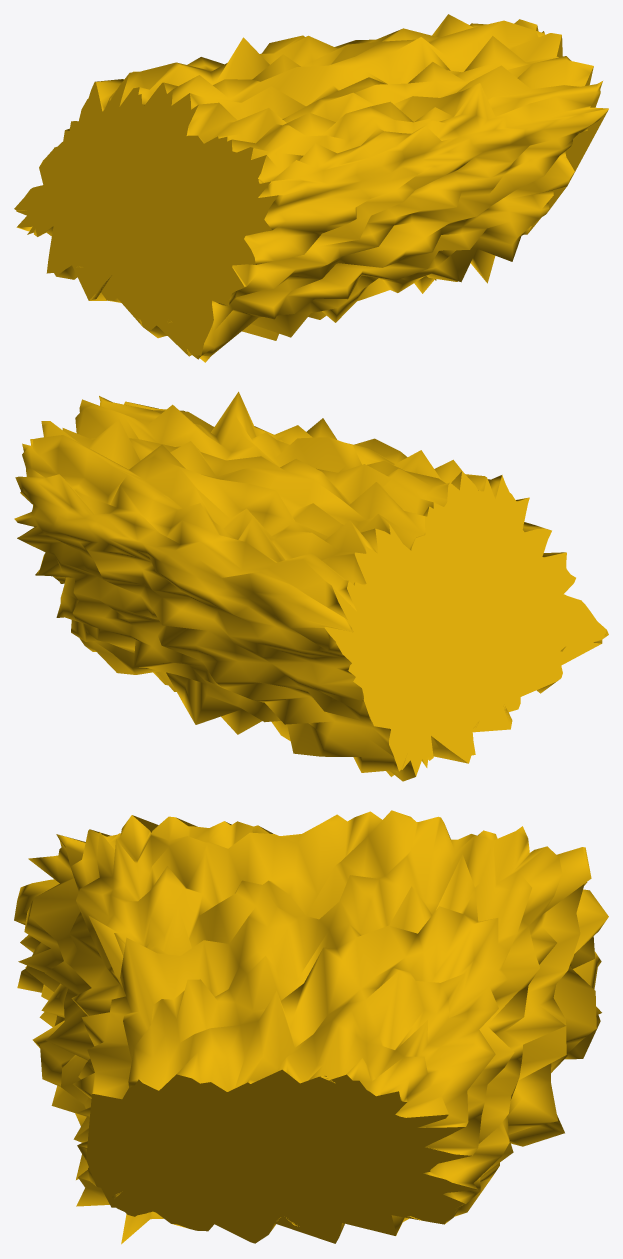
The model's file is 切ったささみ3.fbx.
The picture shows the model from 3 angles, top to bottom: view 1: azimuth 30°, elevation 25°; view 2: azimuth 150°, elevation 25°; view 3: azimuth 270°, elevation 25°; orthographic projection. The views are drawn at different scales.
Visible parts, largest first — view 1: 平面.007; view 2: 平面.007; view 3: 平面.007.
Boxes of the visible parts, box(x1,y1,x2,y2) form: 平面.007: box(14, 14, 608, 362); 平面.007: box(14, 391, 608, 781); 平面.007: box(14, 810, 608, 1244).
Size of the model in its own units: 1.04 by 0.4499 by 0.7751.
